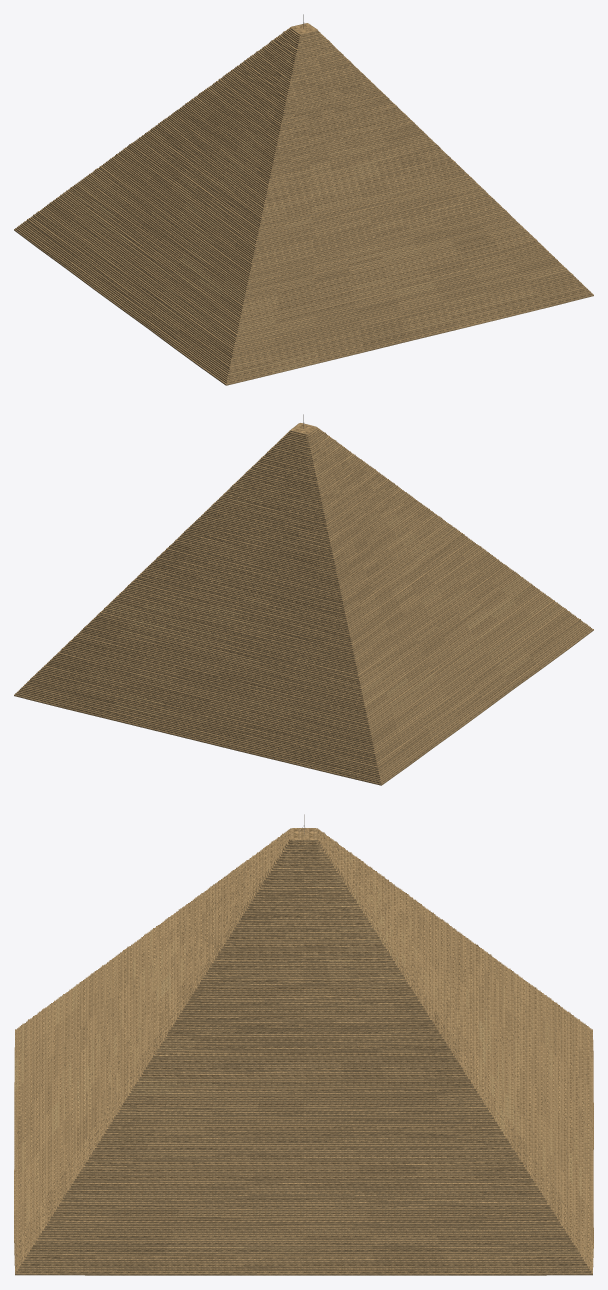
Rendered from giza_khufu.glb.
The picture shows the model from 3 angles, top to bottom: view 1: azimuth 30°, elevation 25°; view 2: azimuth 150°, elevation 25°; view 3: azimuth 270°, elevation 25°; orthographic projection. The views are drawn at different scales.
Visible parts, largest first — view 1: Khufu; view 2: Khufu; view 3: Khufu.
Part boxes in pixels (x1,y1,x2,y2): Khufu: [14, 14, 593, 385]; Khufu: [14, 414, 593, 785]; Khufu: [14, 814, 593, 1275].
Size of the model in its own units: 227 by 147 by 227.
Materials: 2 (1 with a texture image).
